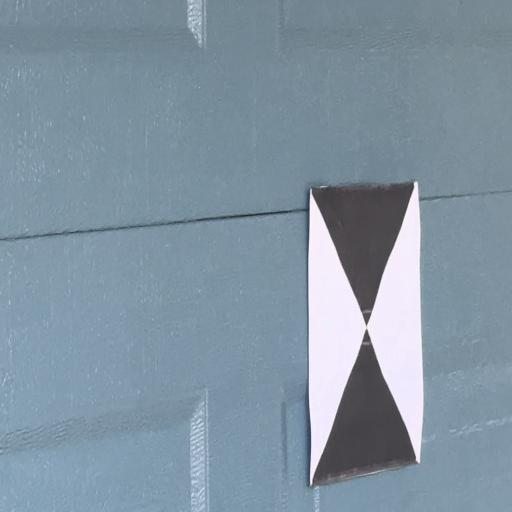target: (310, 183, 422, 483)
